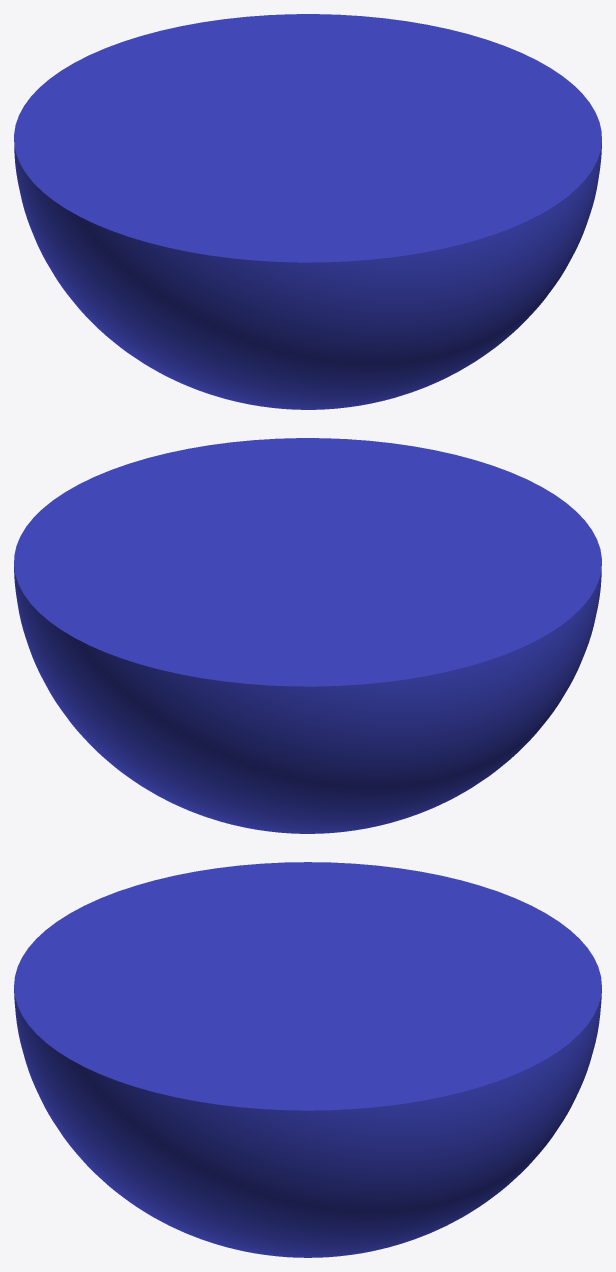
Rendered from head_bottom.fbx.
3 renders of one model, top to bottom at view 1: azimuth 30°, elevation 25°; view 2: azimuth 150°, elevation 25°; view 3: azimuth 270°, elevation 25°, orthographic.
Parts seen in each view (by area): view 1: root; view 2: root; view 3: root.
Boxes of the visible parts, x1,y1,x2,y2 form: root: (14,14,601,409); root: (14,438,601,833); root: (14,862,601,1257).
Size of the model in its own units: 0.7158 by 0.324 by 0.7158.
